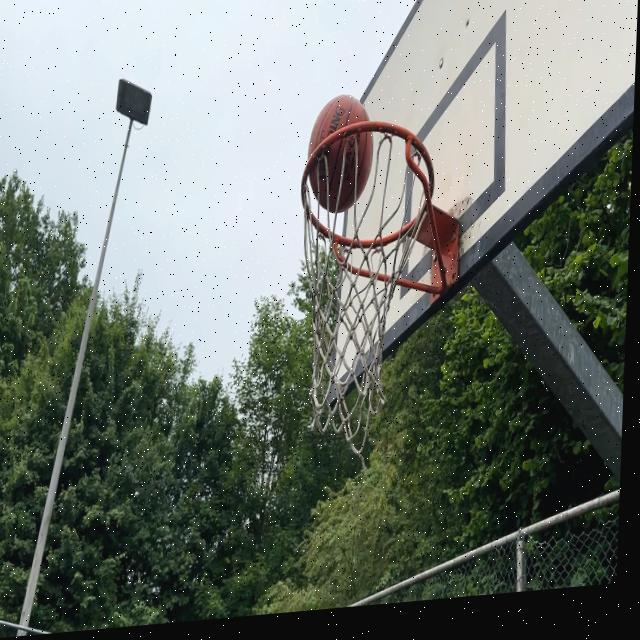rebound_hit: (303, 94, 375, 218)
